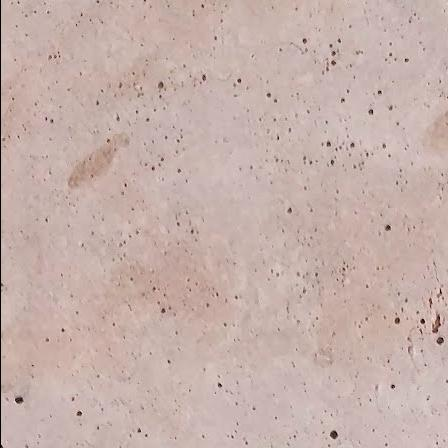spalling: (429, 310, 442, 335)
